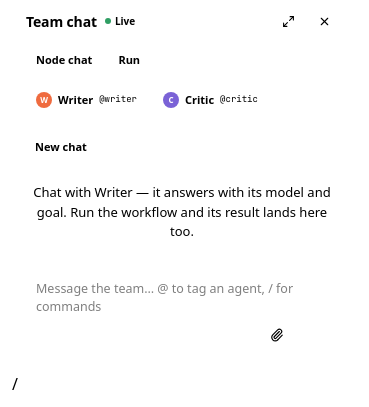
Scenario: D302 @handle brings another node into the conversation › a plain message previews the main node
Expected: the element with test id "chat-conversation" is shown, [12, 167, 352, 258]
Type "hello" into the text box with test id "chat-input" at (182,298), box [36, 280, 328, 316]
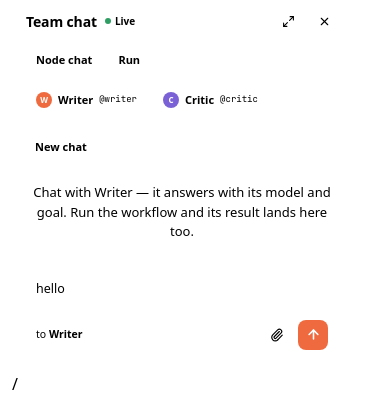
Expected: the element with test id "chat-send-preview" reads "to Writer", [36, 327, 82, 341]
